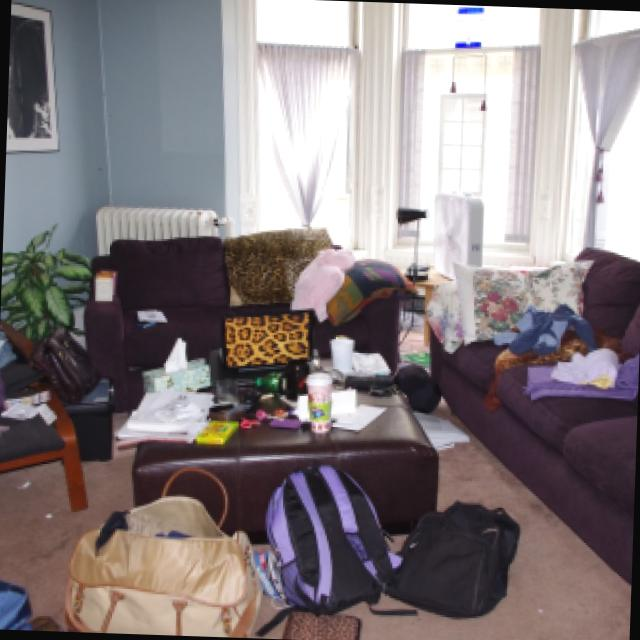mess: (29, 459, 550, 640), (133, 306, 438, 508), (432, 258, 640, 446), (0, 226, 74, 468), (240, 237, 412, 312)
